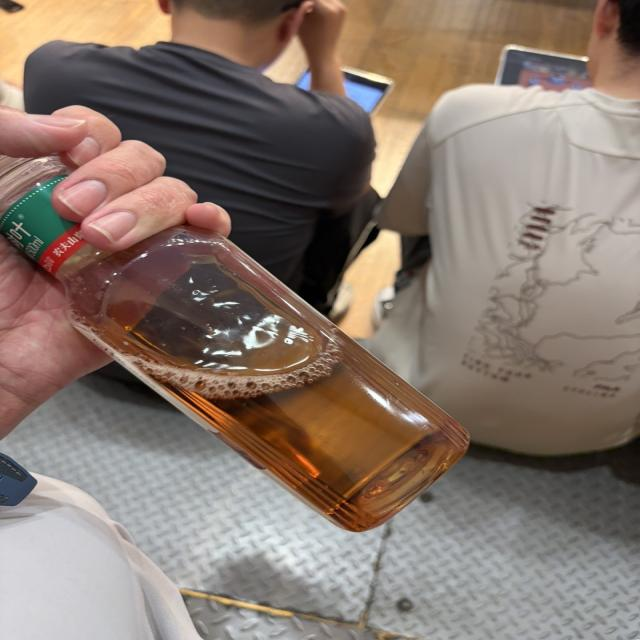medium: (0, 158, 467, 531)
